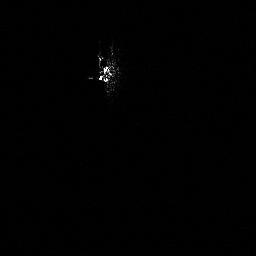ship: (87, 44, 122, 100)
